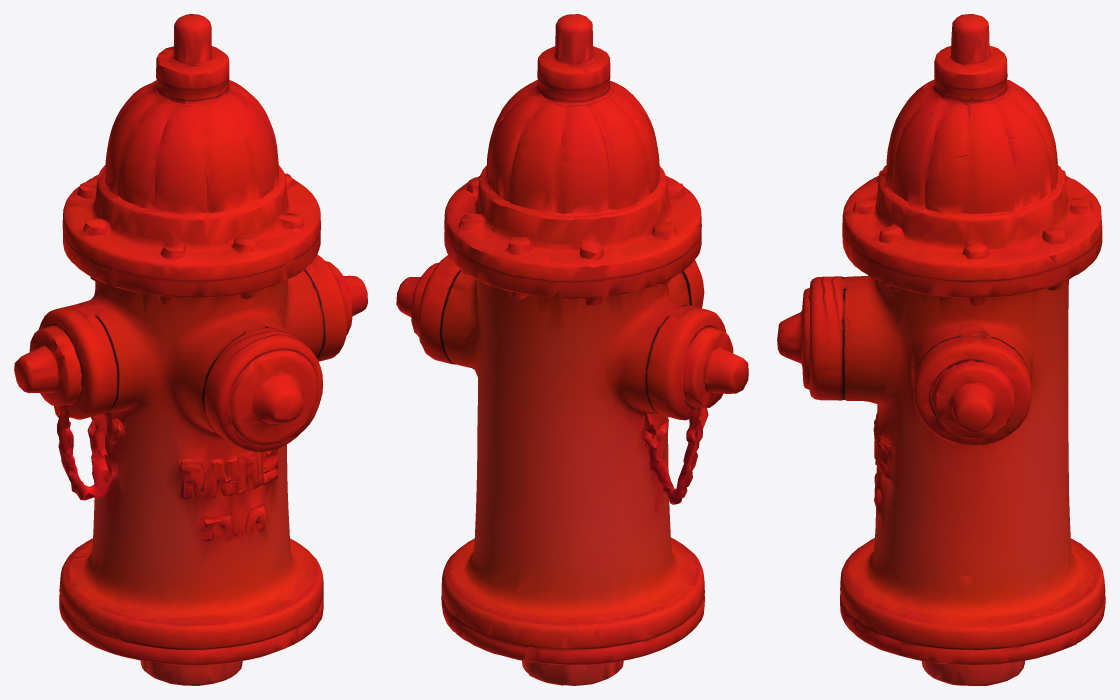
File: fire_hydrant_001_001.glb
The picture shows the model from 3 angles, left to right: view 1: azimuth 30°, elevation 25°; view 2: azimuth 150°, elevation 25°; view 3: azimuth 270°, elevation 25°; orthographic projection.
Visible parts, largest first — view 1: 326887ce-5c56-4679-8320-d22423b734e1_texturing.obj; view 2: 326887ce-5c56-4679-8320-d22423b734e1_texturing.obj; view 3: 326887ce-5c56-4679-8320-d22423b734e1_texturing.obj.
Part boxes in pixels (bbox=[...]): 326887ce-5c56-4679-8320-d22423b734e1_texturing.obj: bbox=[14, 14, 367, 685]; 326887ce-5c56-4679-8320-d22423b734e1_texturing.obj: bbox=[396, 14, 748, 685]; 326887ce-5c56-4679-8320-d22423b734e1_texturing.obj: bbox=[777, 14, 1105, 685].
Bounding box in the file's own units: 1.09 × 1.99 × 0.9164.
1 material, 1 textured.
